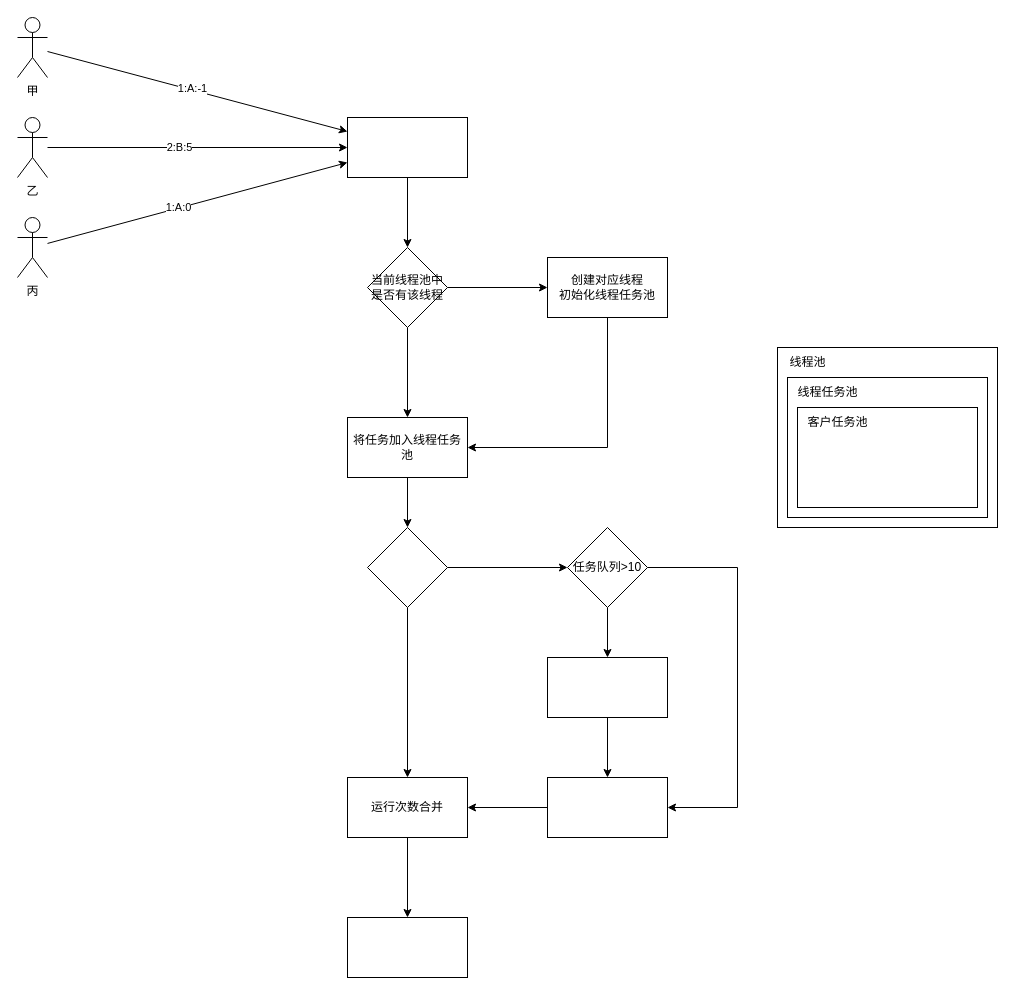
Some shapes in this 1015 by 995 pixel diagram are drawn without their labels. Here are the shapes that lost their labels. From the top down, the box of each, then its label:
(346, 116, 468, 178): 将每个设备抽象成一个线程
(366, 526, 448, 608): 客户任务是否存在
(546, 656, 668, 718): 丢弃队首任务
(546, 776, 668, 838): 创建任务
(346, 916, 468, 978): 激活线程运行
